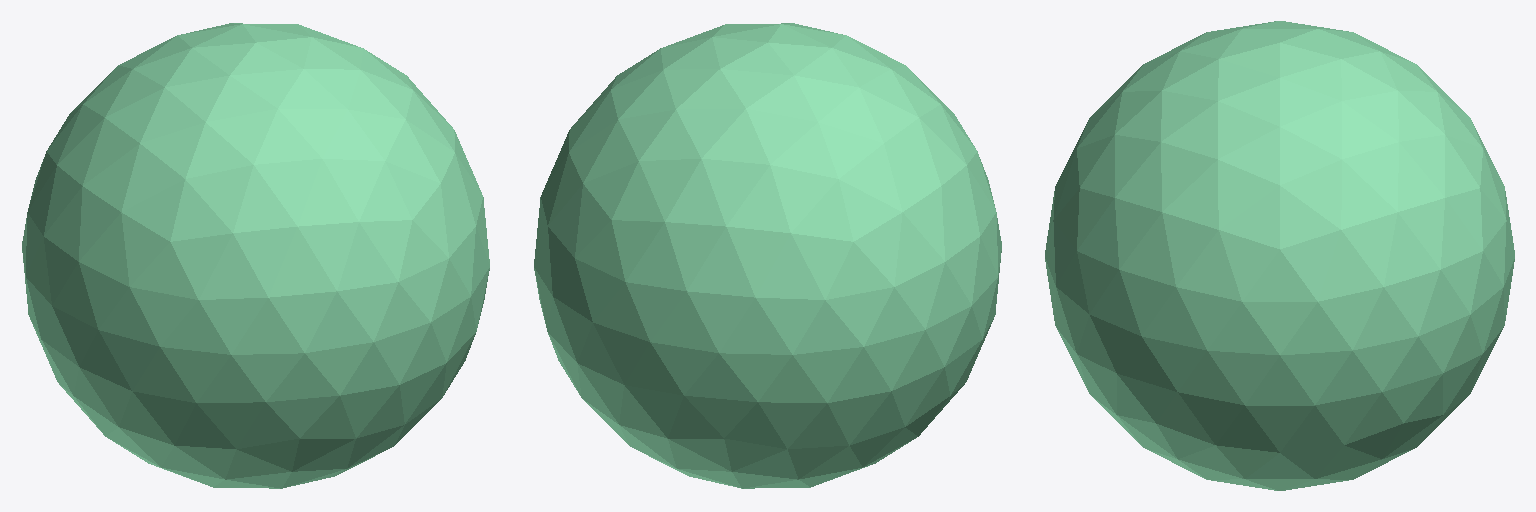
The model's file is geosphere.obj.
3 views of the same model, side by side, from view 1: azimuth 30°, elevation 25°; view 2: azimuth 150°, elevation 25°; view 3: azimuth 270°, elevation 25° (orthographic).
Parts seen in each view (by area): view 1: GeoSphere001; view 2: GeoSphere001; view 3: GeoSphere001.
Boxes of the visible parts, box(x1,y1,x2,y2) form: GeoSphere001: box(22, 23, 489, 488); GeoSphere001: box(534, 23, 1001, 488); GeoSphere001: box(1045, 21, 1514, 490).
Bounding box in the file's own units: 1 × 1 × 1.